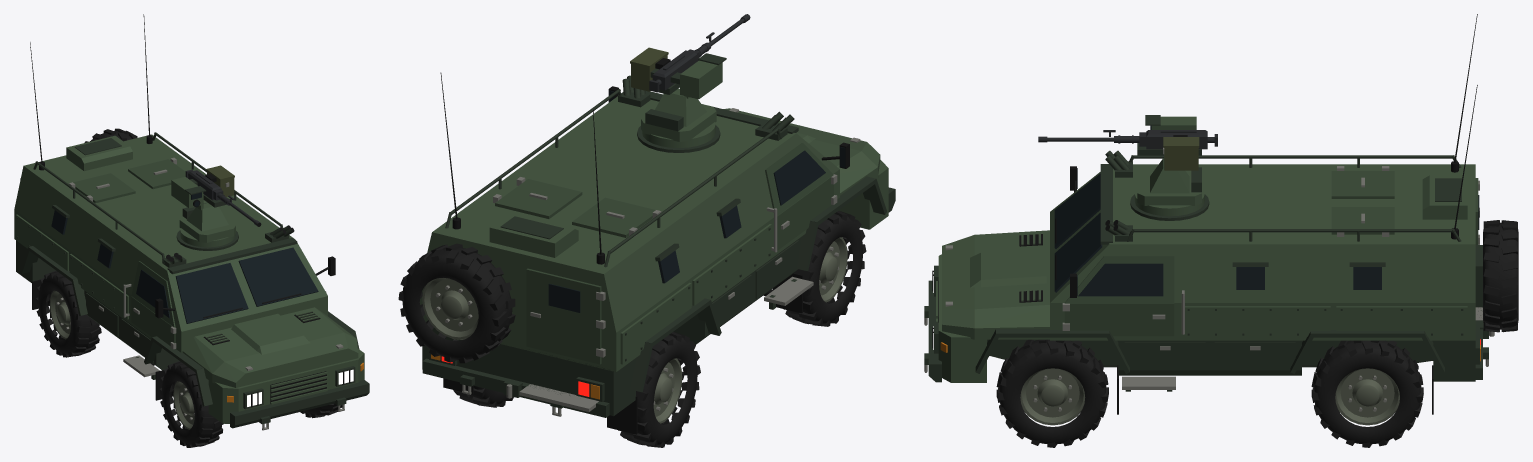
Rendered from nc4_apc.glb.
3 renders of one model, left to right at view 1: azimuth 30°, elevation 25°; view 2: azimuth 150°, elevation 25°; view 3: azimuth 270°, elevation 25°, orthographic. The views are drawn at different scales.
Parts seen in each view (by area): view 1: Body, Wheel_RR, Wheel_FR, Cradle, Turret; view 2: Body, Wheel_RR, Wheel_FR, Cradle, Turret, Wheel_RL; view 3: Body, Wheel_FL, Wheel_RL, Cradle, Turret.
Boxes of the visible parts, x1,y1,x2,y2 form: Body: [14, 14, 369, 430]; Wheel_RR: [36, 270, 101, 357]; Wheel_FR: [159, 361, 223, 447]; Cradle: [171, 165, 261, 226]; Turret: [179, 194, 235, 247]; Body: [398, 72, 895, 434]; Wheel_RR: [618, 332, 700, 447]; Wheel_FR: [783, 211, 866, 326]; Cradle: [630, 14, 750, 99]; Turret: [641, 88, 716, 147]; Wheel_RL: [453, 386, 513, 407]; Body: [924, 14, 1518, 414]; Wheel_FL: [996, 339, 1108, 447]; Wheel_RL: [1311, 340, 1423, 447]; Cradle: [1038, 115, 1217, 170]; Turret: [1134, 154, 1204, 216].
Bounding box in the file's own units: 2.9 × 4.35 × 6.61.
Materials: 1 (1 with a texture image).
